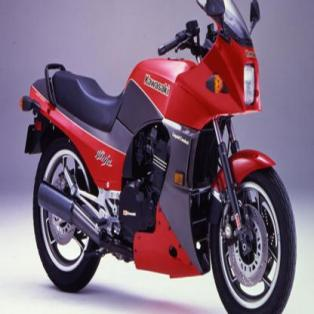Motocicleta: (16, 0, 298, 312)
